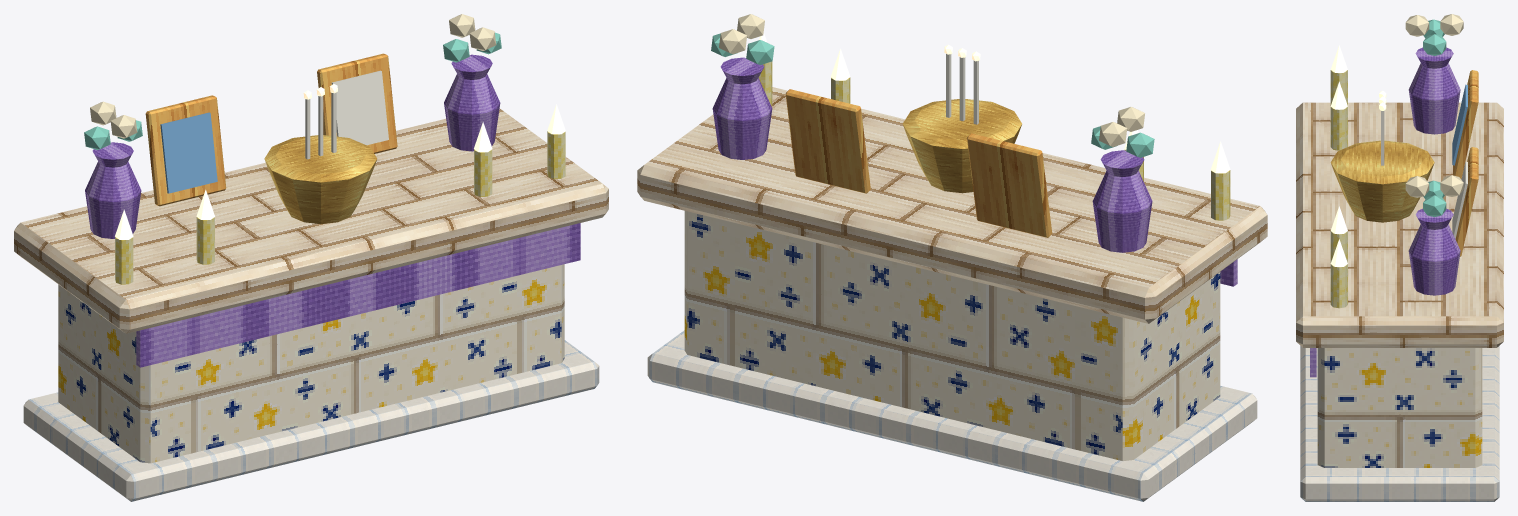
File: tower_altar.glb
3 renders of one model, left to right at view 1: azimuth 30°, elevation 25°; view 2: azimuth 150°, elevation 25°; view 3: azimuth 270°, elevation 25°, orthographic. The views are drawn at different scales.
Parts seen in each view (by area): view 1: Altar, Glow; view 2: Altar, Glow; view 3: Altar, Glow.
Boxes of the visible parts, x1,y1,x2,y2 form: Altar: (14,14,608,501); Glow: (115,84,565,239); Altar: (637,14,1267,501); Glow: (759,32,1230,173); Altar: (1296,14,1503,501); Glow: (1330,45,1386,266).
Size of the model in its own units: 3 by 1.93 by 1.2.
Materials: 14 (7 with a texture image).
